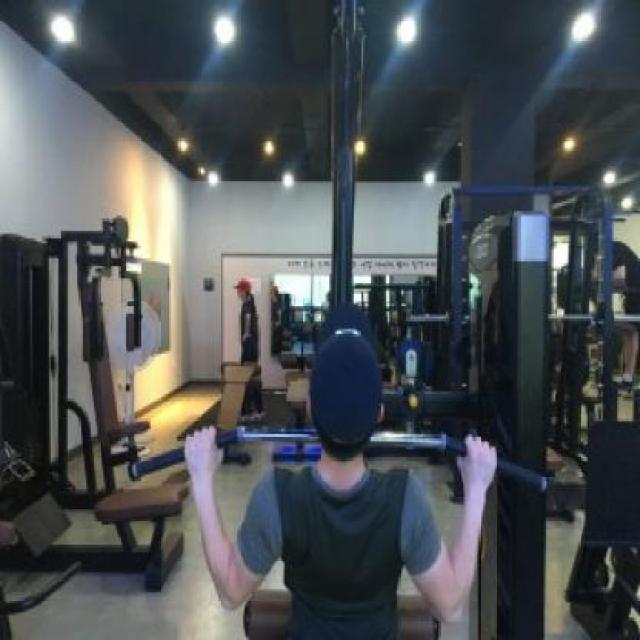Lat Pull Down: (118, 0, 564, 640)
